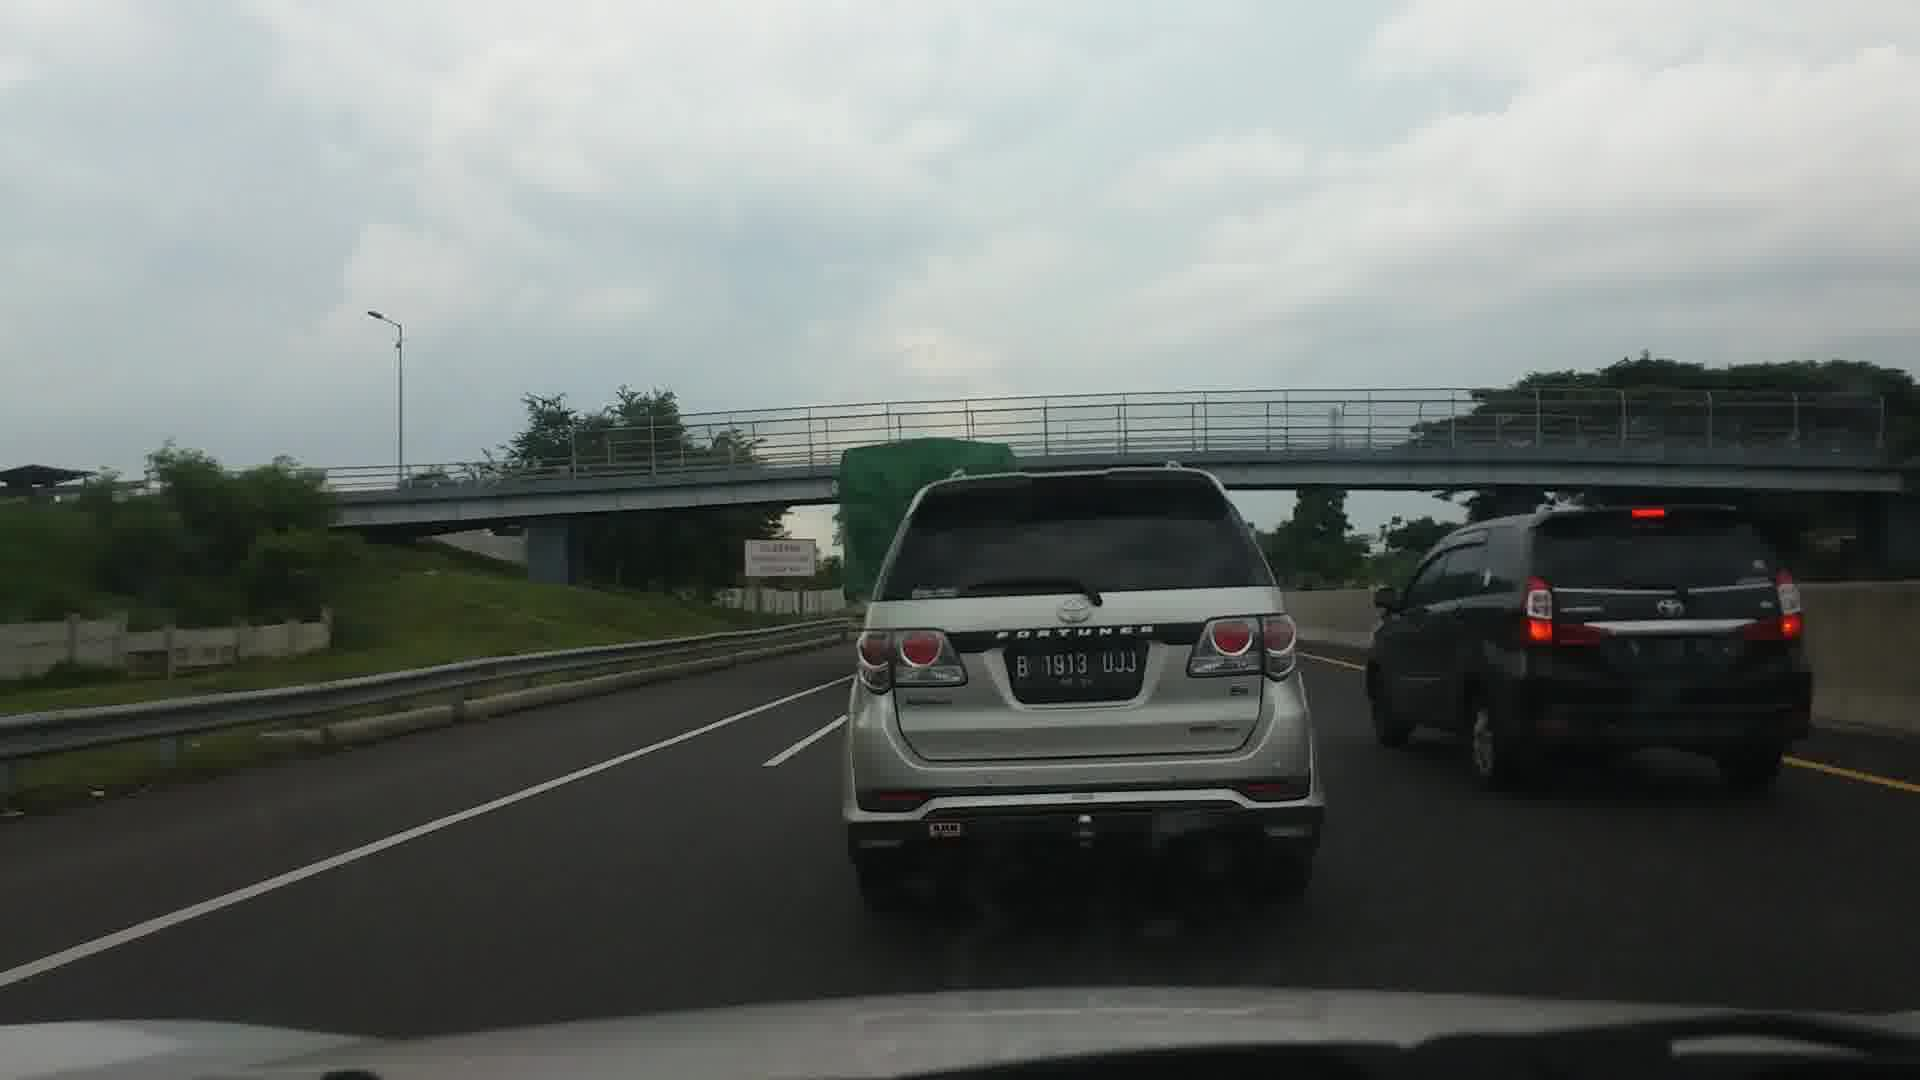plate_positive: (1011, 647, 1142, 688)
